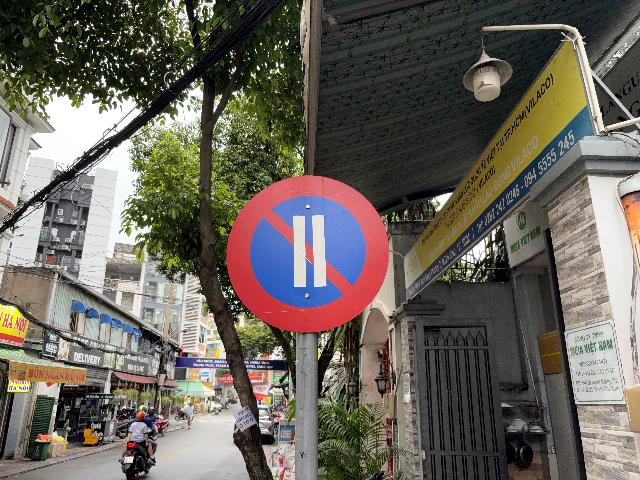cam-do-xe-ngay-chan: (226, 175, 389, 332)
